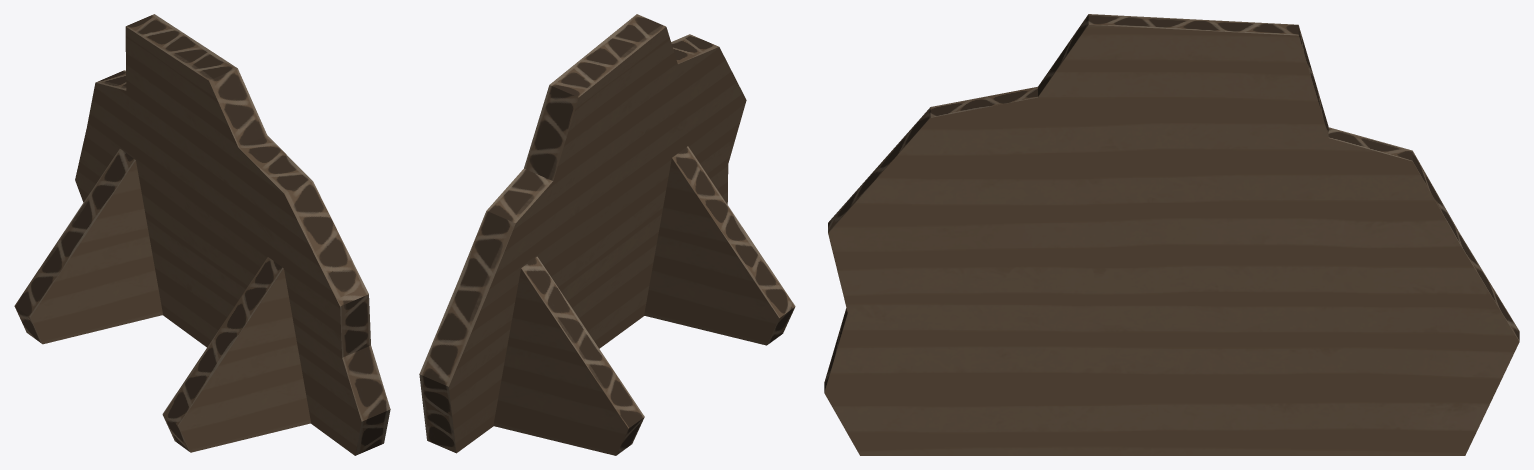
Rendered from bushes_2.fbx.
3 renders of one model, left to right at view 1: azimuth 30°, elevation 25°; view 2: azimuth 150°, elevation 25°; view 3: azimuth 270°, elevation 25°, orthographic. The views are drawn at different scales.
Parts seen in each view (by area): view 1: pCube16; view 2: pCube16; view 3: pCube16.
Boxes of the visible parts, <box> form: pCube16: <box>14,14,390,455</box>; pCube16: <box>419,14,795,455</box>; pCube16: <box>824,14,1519,455</box>.
Bounding box in the file's own units: 1.04 × 2 × 3.11.
1 material, 1 textured.
